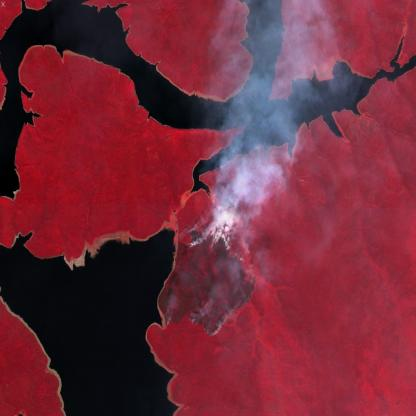fire: (154, 224, 259, 338)
